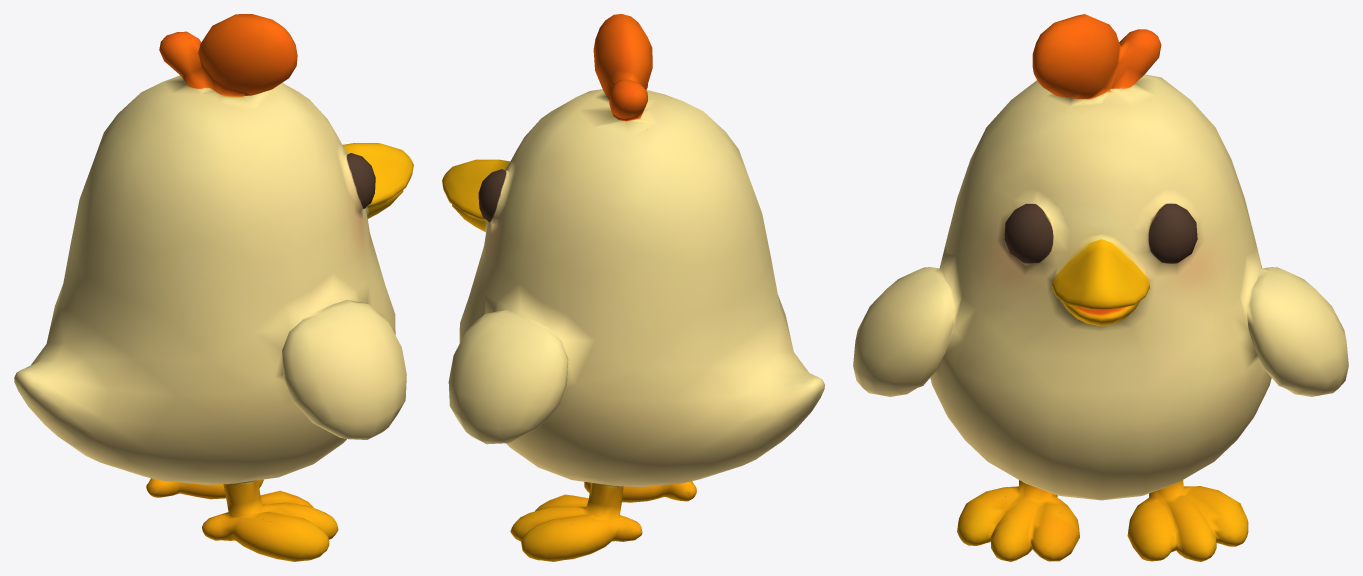
Rendered from gidak.glb.
3 views of the same model, side by side, from view 1: azimuth 30°, elevation 25°; view 2: azimuth 150°, elevation 25°; view 3: azimuth 270°, elevation 25° (orthographic). The views are drawn at different scales.
Visible parts, largest first — view 1: tripo_node_de8cd989-e7a3-47ea-a2cd-e0c6f044ccf5; view 2: tripo_node_de8cd989-e7a3-47ea-a2cd-e0c6f044ccf5; view 3: tripo_node_de8cd989-e7a3-47ea-a2cd-e0c6f044ccf5.
Part boxes in pixels (x1,y1,x2,y2): tripo_node_de8cd989-e7a3-47ea-a2cd-e0c6f044ccf5: (14, 14, 413, 561); tripo_node_de8cd989-e7a3-47ea-a2cd-e0c6f044ccf5: (442, 14, 824, 561); tripo_node_de8cd989-e7a3-47ea-a2cd-e0c6f044ccf5: (853, 14, 1348, 561).
Size of the model in its own units: 0.1605 by 0.2 by 0.1718.
Materials: 1 (1 with a texture image).
